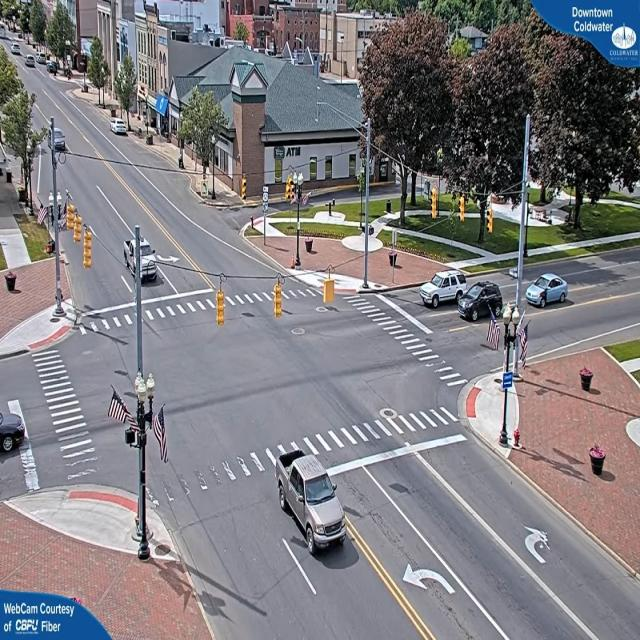car: (277, 450, 347, 556), (421, 272, 468, 310), (462, 282, 504, 324), (526, 270, 569, 308), (1, 410, 29, 458), (112, 121, 130, 138)
